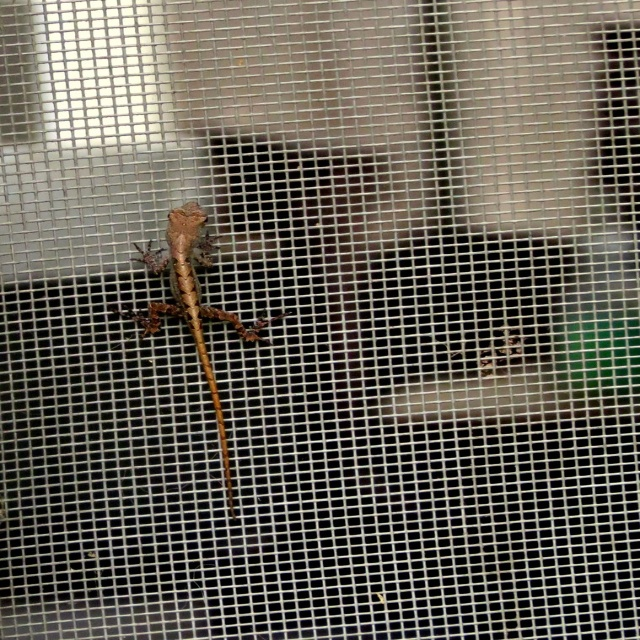Lizard: (109, 202, 292, 522)
